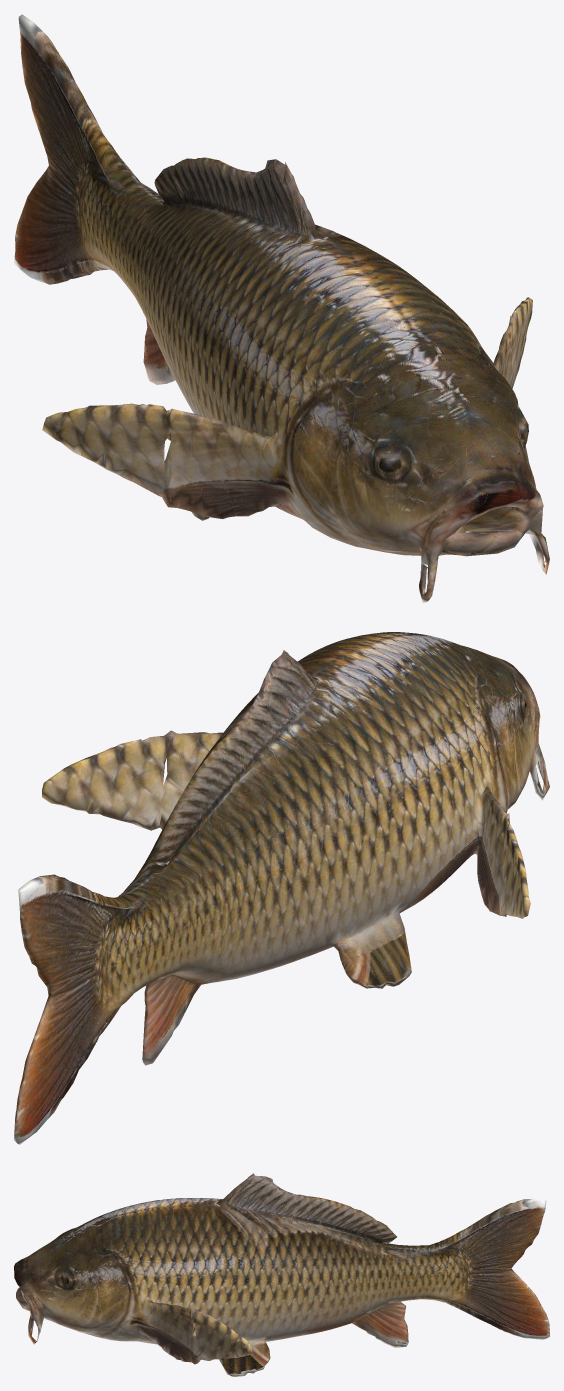
Rendered from fish_carp.glb.
3 views of the same model, one above another, from view 1: azimuth 30°, elevation 25°; view 2: azimuth 150°, elevation 25°; view 3: azimuth 270°, elevation 25° (orthographic). The views are drawn at different scales.
Parts seen in each view (by area): view 1: geometry_0; view 2: geometry_0; view 3: geometry_0.
Boxes of the visible parts, left/top/right/bottom form: geometry_0: left=14, top=14, right=549, bottom=603; geometry_0: left=14, top=632, right=549, bottom=1144; geometry_0: left=14, top=1173, right=549, bottom=1376.
Size of the model in its own units: 1.13 by 0.7094 by 1.96.
Materials: 1 (1 with a texture image).
